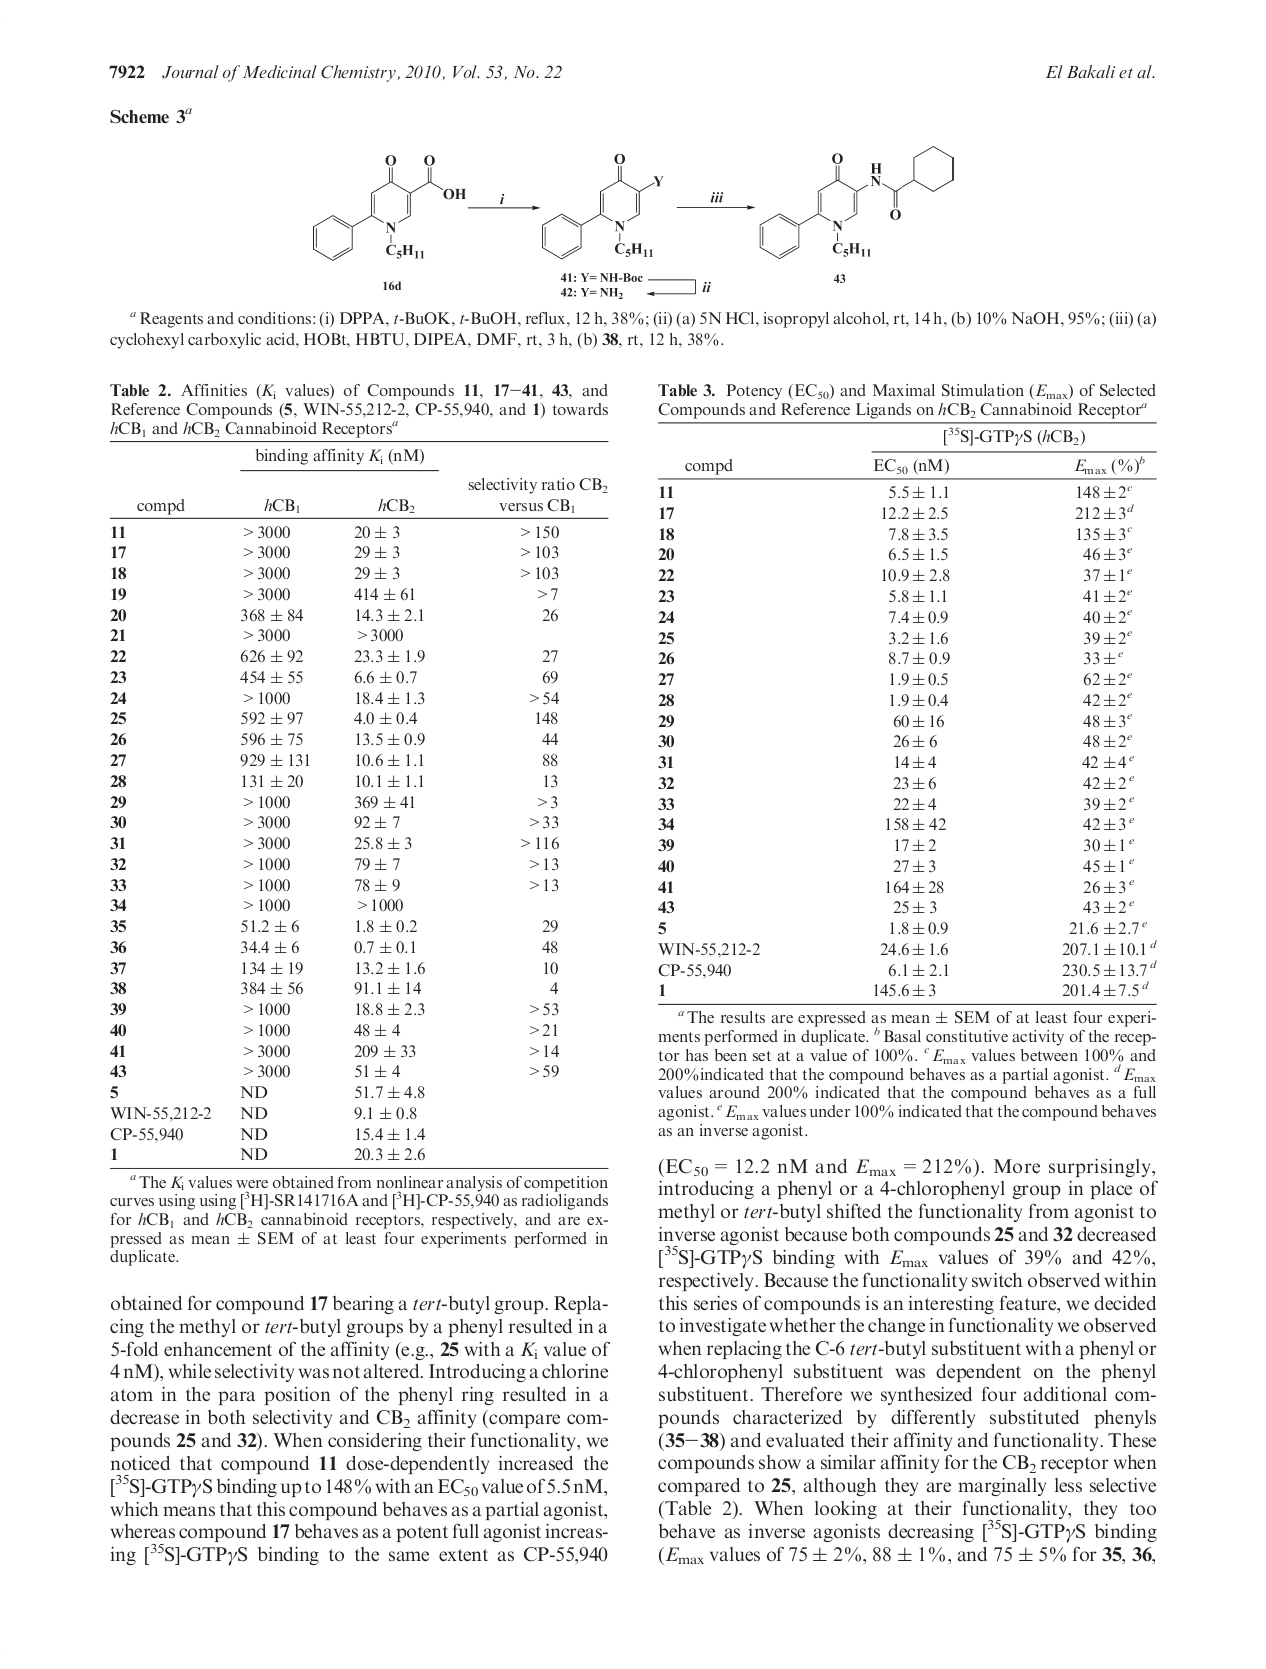exist_molecular: (751, 144, 960, 261), (313, 153, 471, 266), (541, 153, 668, 262)
